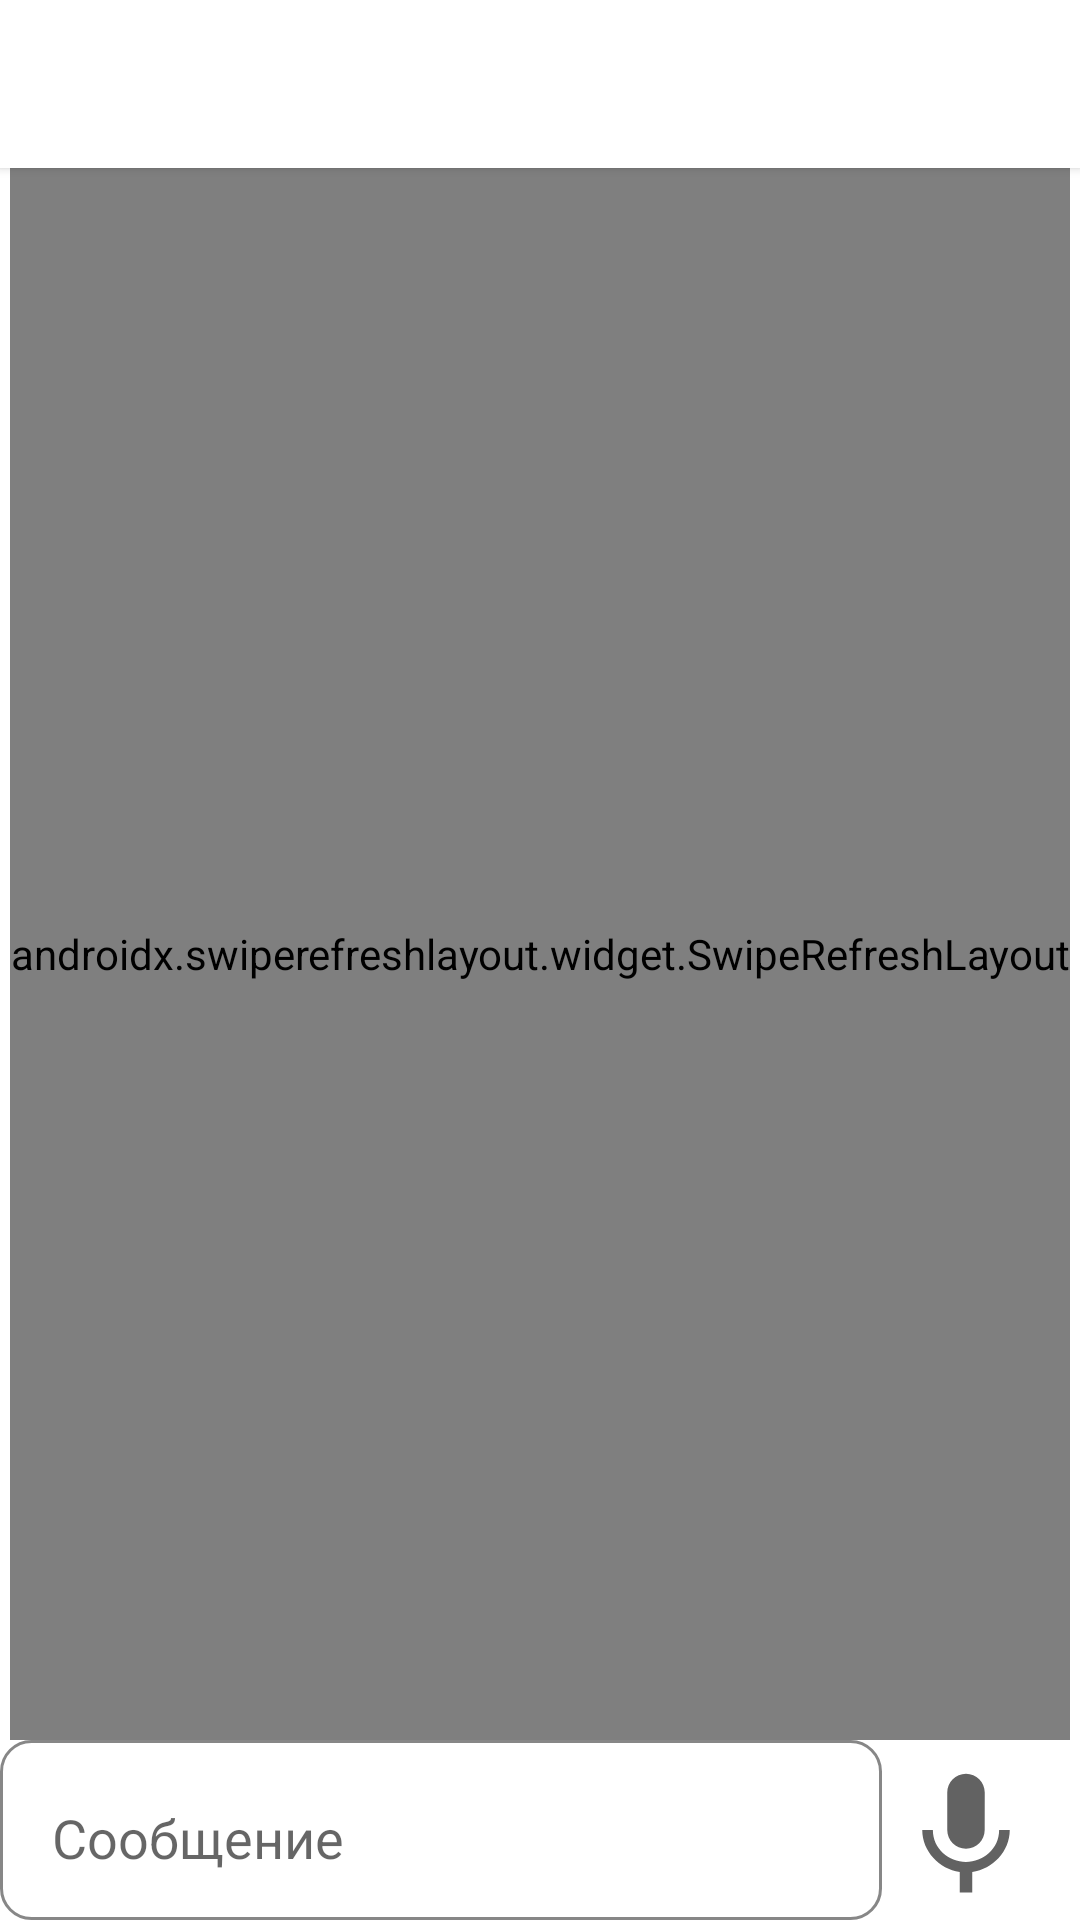

Icon bounding boxes for this 1080px×1920px phone screenshot, format (x1, y1, x2, y2):
voice: (922, 1773, 1010, 1893)
